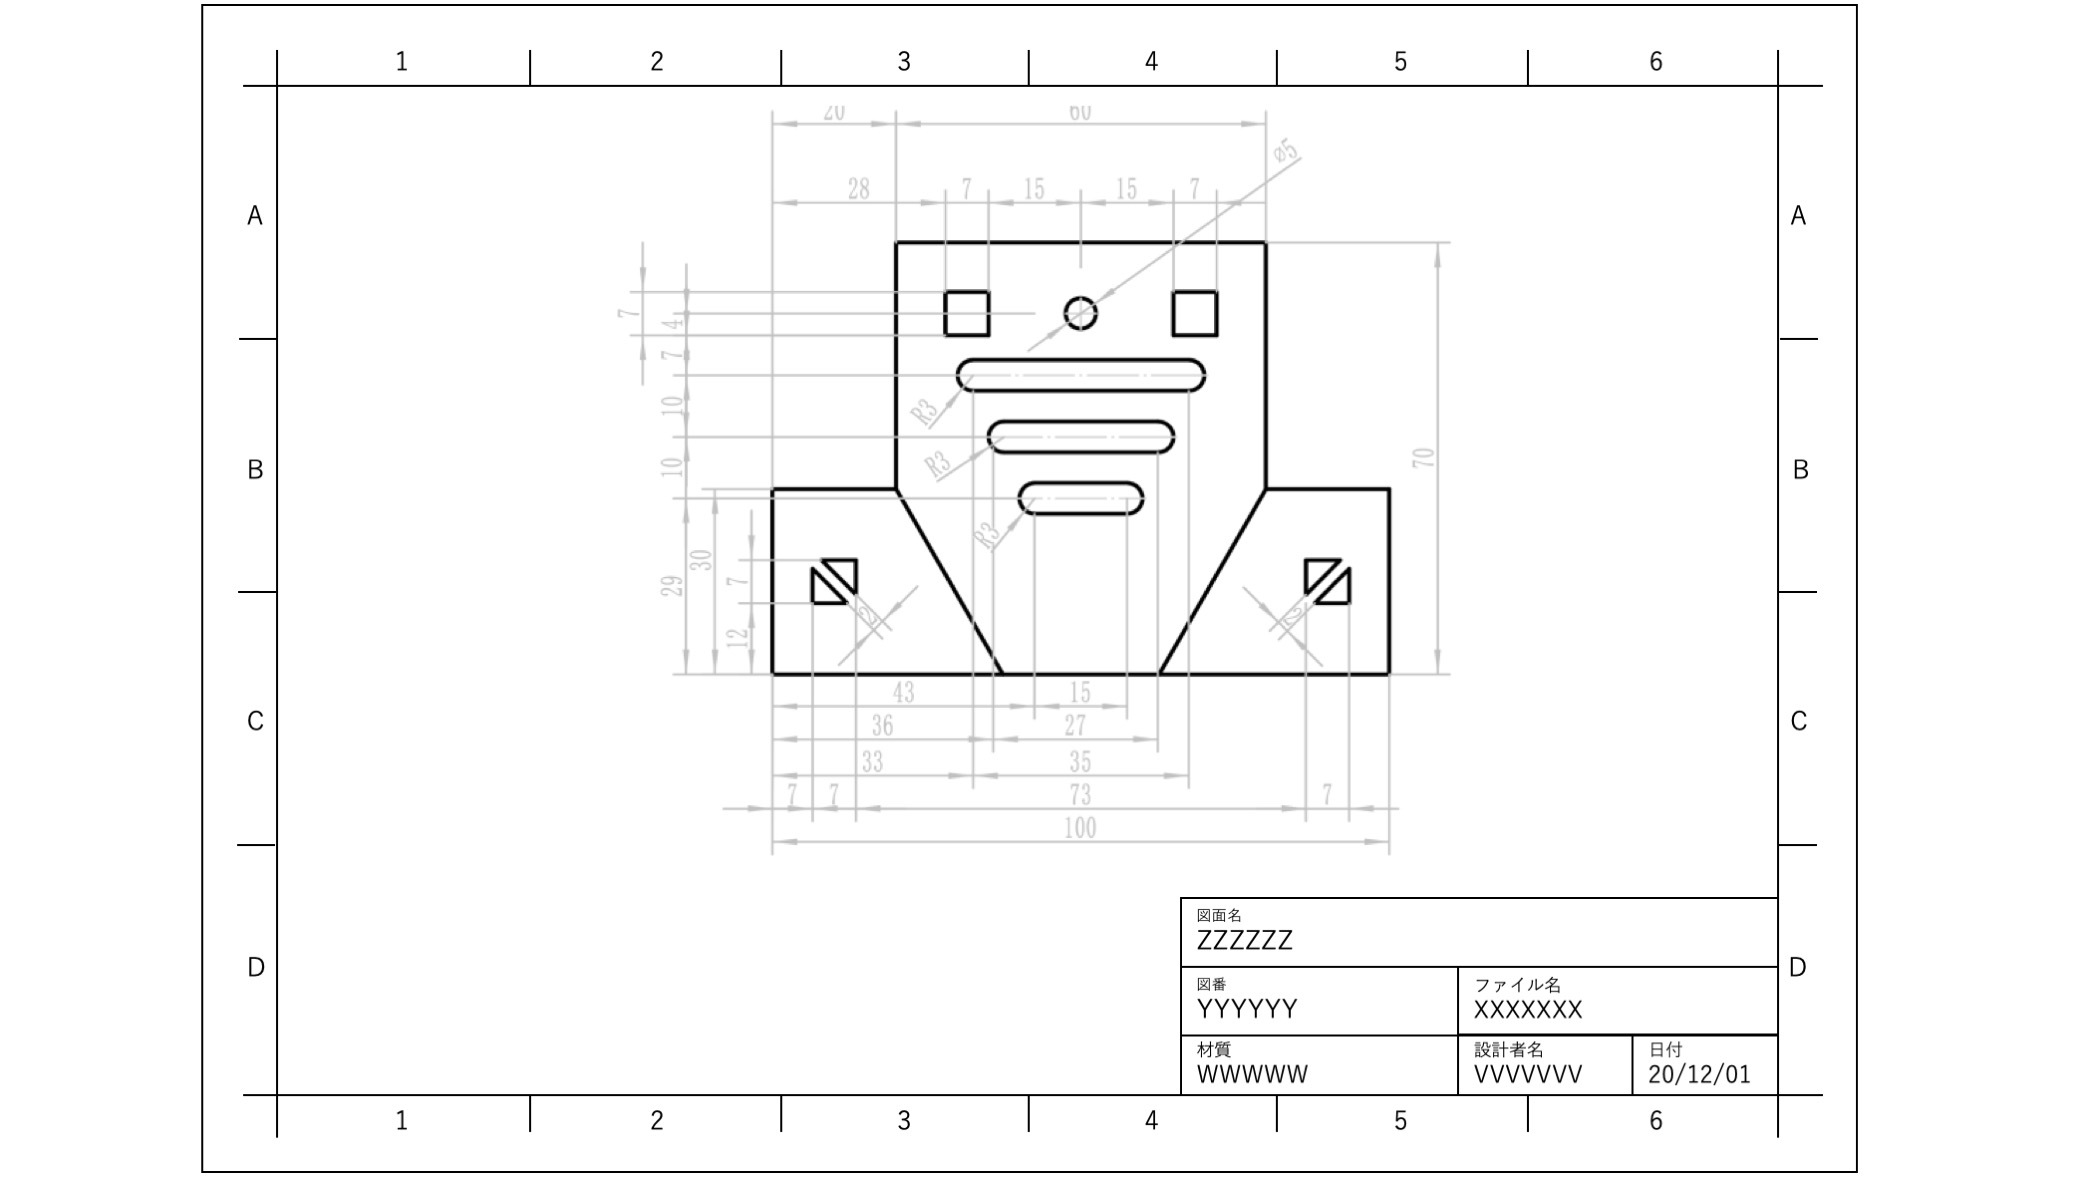circle: (1059, 288, 1105, 335)
rectangle: (936, 278, 997, 340), (1164, 281, 1220, 340)
round_rectangle: (950, 348, 1222, 401), (979, 412, 1183, 459), (1010, 474, 1154, 523)
triangle: (813, 545, 867, 596), (1311, 557, 1359, 610), (803, 557, 848, 611), (1300, 549, 1347, 597)
